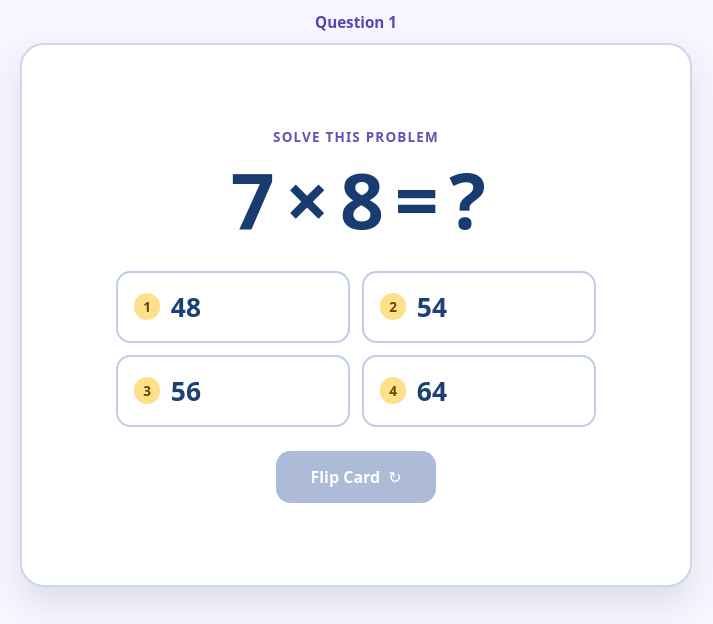
Test case: QuestionCard › reveals the answer and records only one self-reported result
Click the button named "Answer choice 3: 56".
click(233, 391)  # box top-left (116, 355), bottom-right (350, 427)
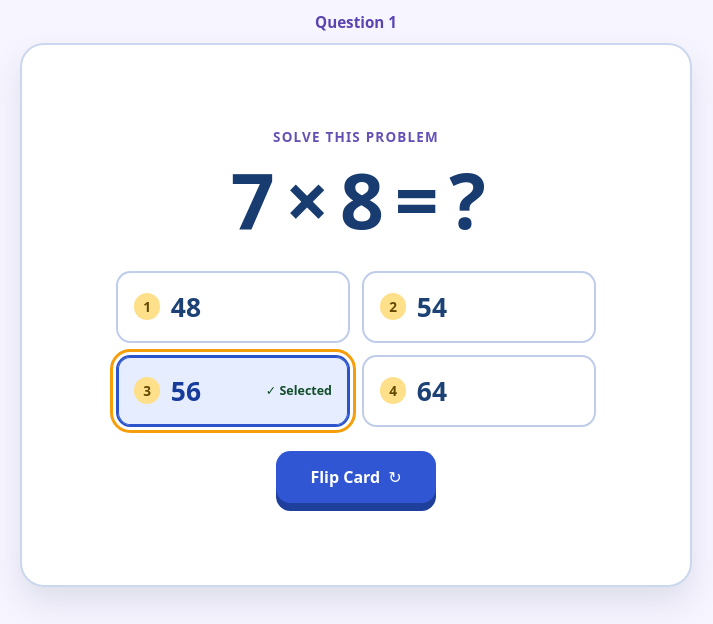
Click the button "Flip Card ↻".
click(356, 477)  # box top-left (276, 451), bottom-right (436, 503)
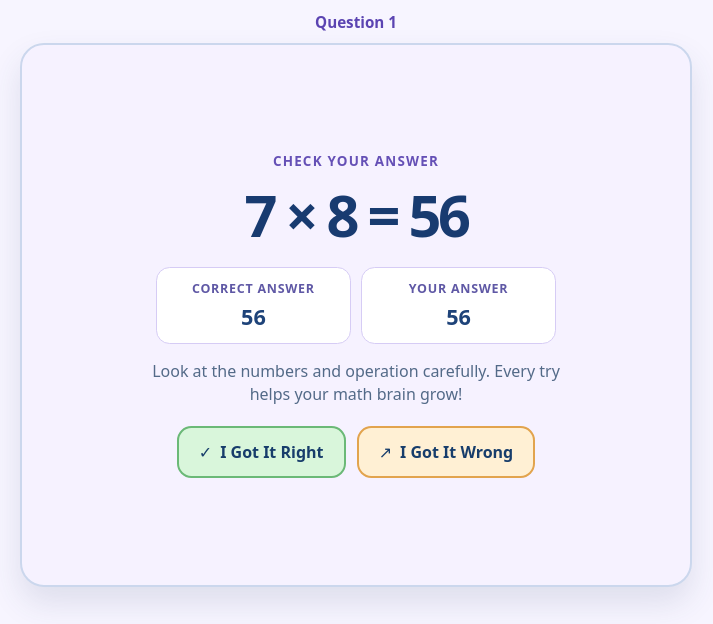
Expected: the text "7 × 8 = 56" is shown, top-left (244, 186), bottom-right (468, 244)
Expected: the text "Correct answer" is shown, top-left (192, 280), bottom-right (315, 297)
Click the button "✓ I Got It Right".
click(261, 452)  # box top-left (177, 426), bottom-right (346, 478)
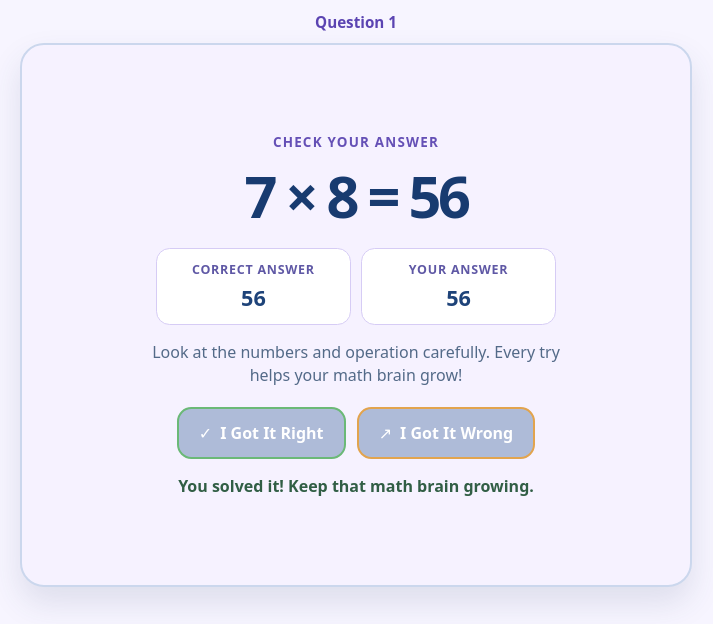
Expected: the button "↗ I Got It Wrong" is disabled, top-left (357, 407), bottom-right (535, 459)
